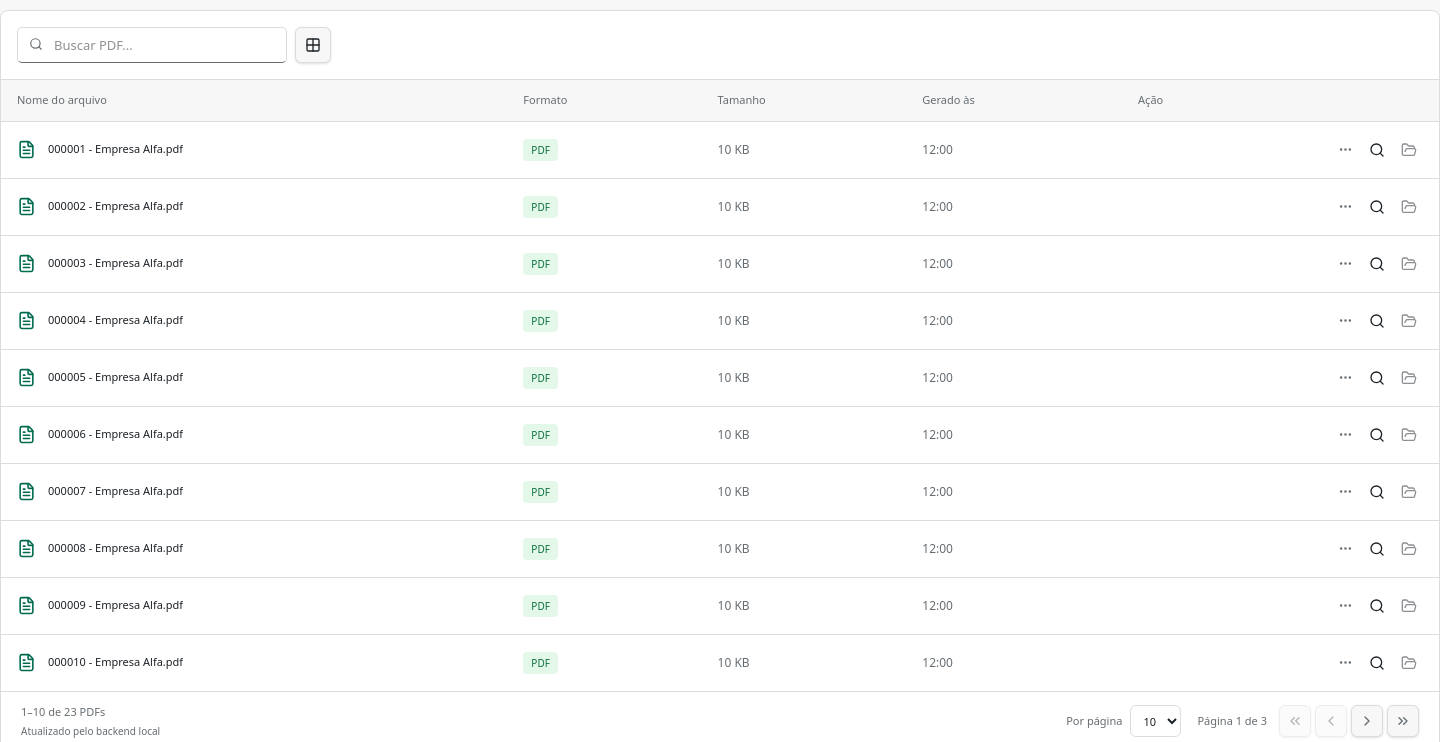
it: Output pagination › shares the current page between list and grid and clamps it when files are removed
The image size is (1440, 742).
Later steps or results of the test are not shown.
(page scrolled)
Click the button named "Próxima página" at (1367, 721), box 1351,705 -> 1383,737
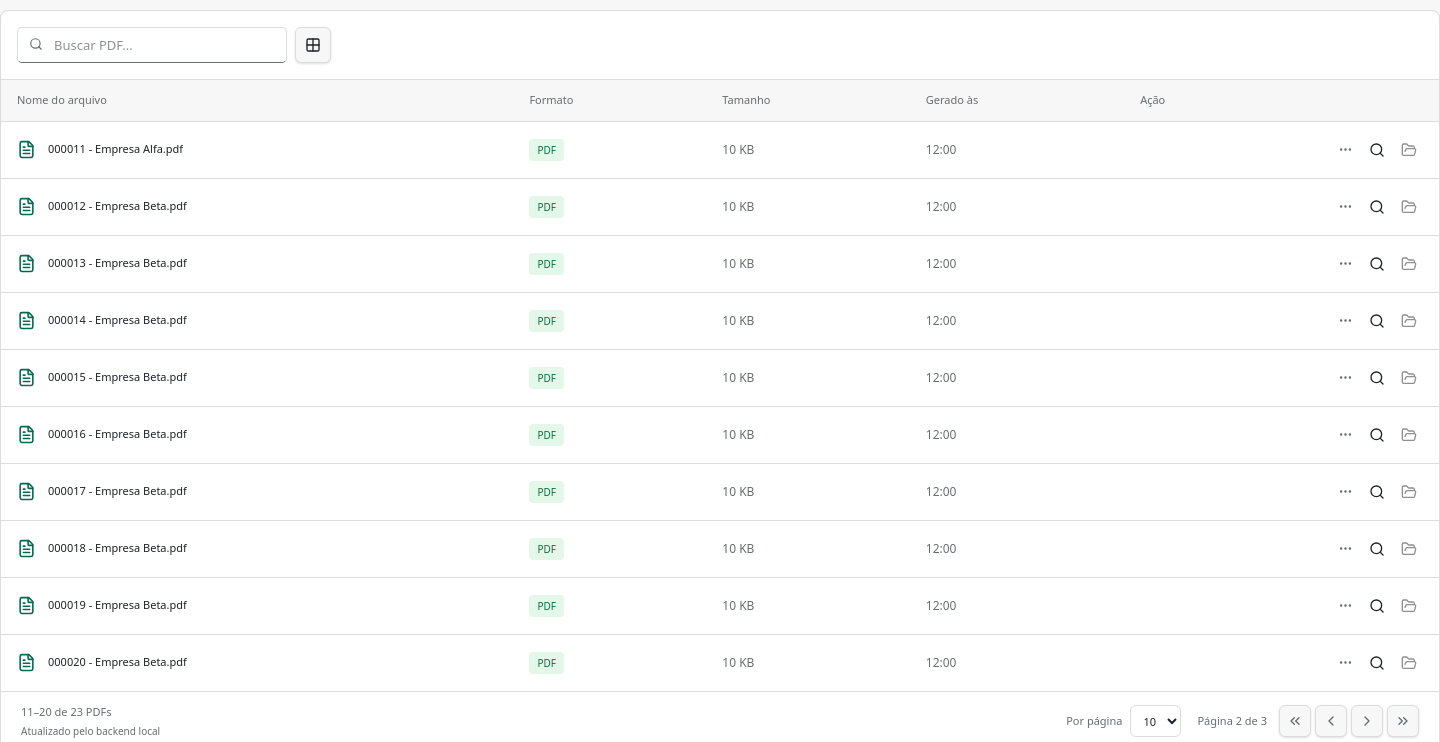
Click the button named "Visualizar grade" at (313, 45), box 295,27 -> 331,63
(page scrolled)
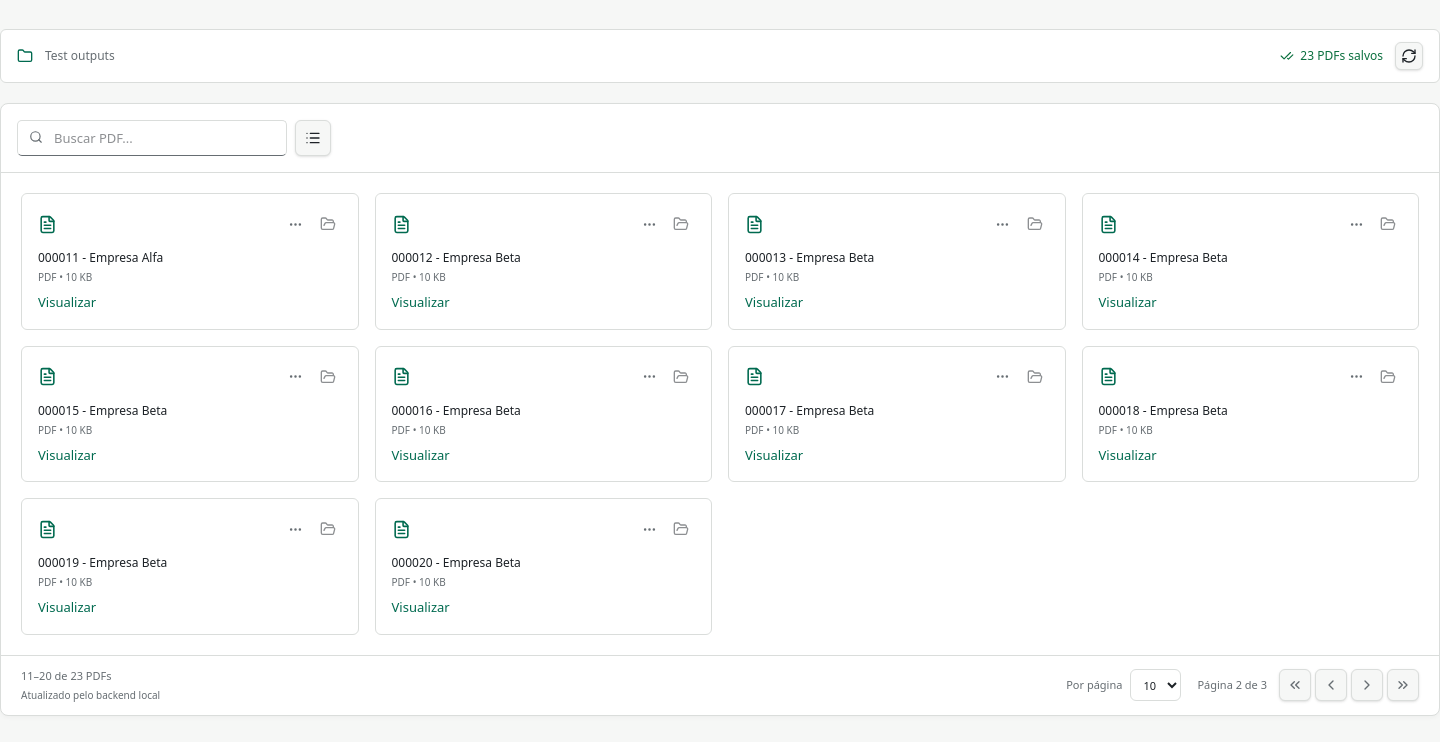
expect the text "000011 - Empresa Alfa" is shown: met, box 38,249 -> 163,266
expect the text "Página 2 de 3" is shown: met, box 1197,677 -> 1267,694
expect the table is gone: met
Click the button named "Visualizar lista" at (313, 138), box 295,120 -> 331,156
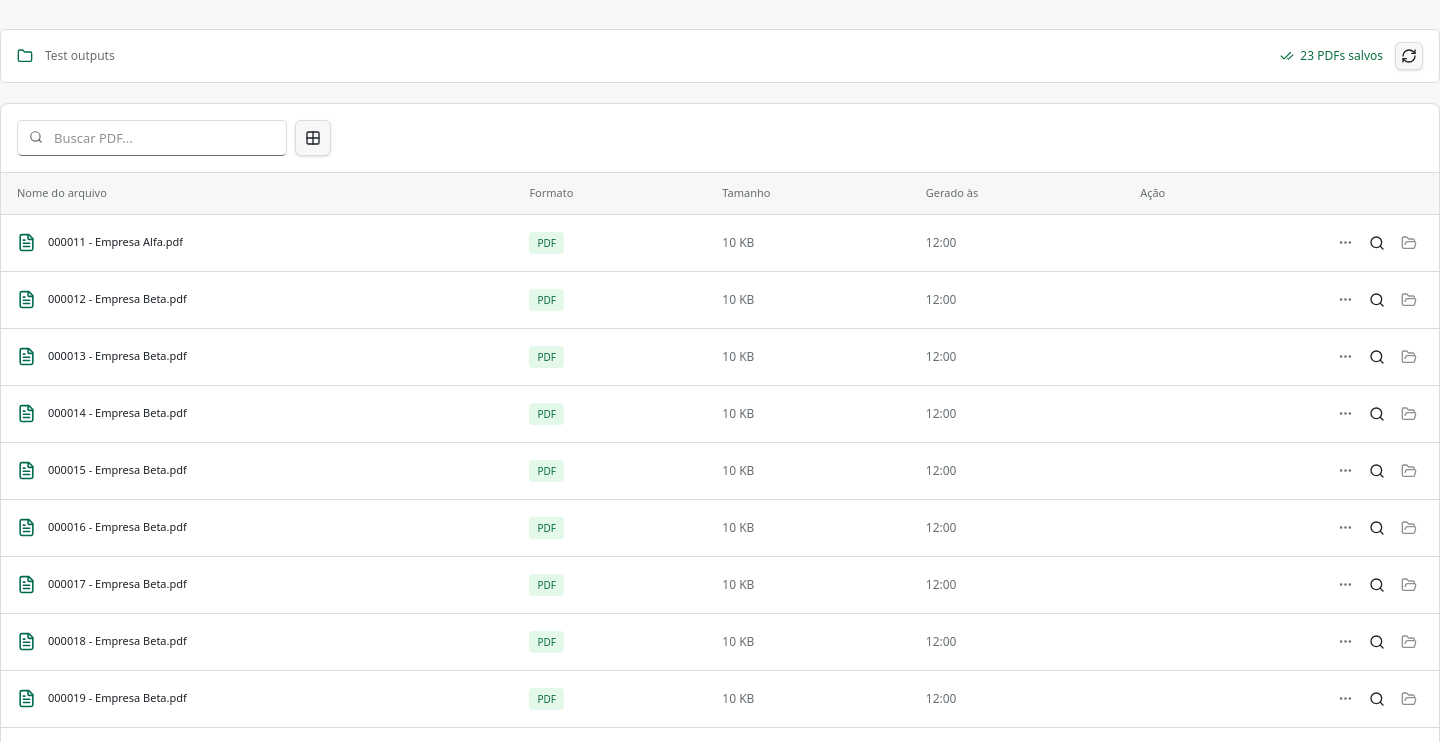
expect the row "000011 - Empresa Alfa.pdf PDF 10 KB 12:00" is shown: met, box 1,214 -> 1439,271
